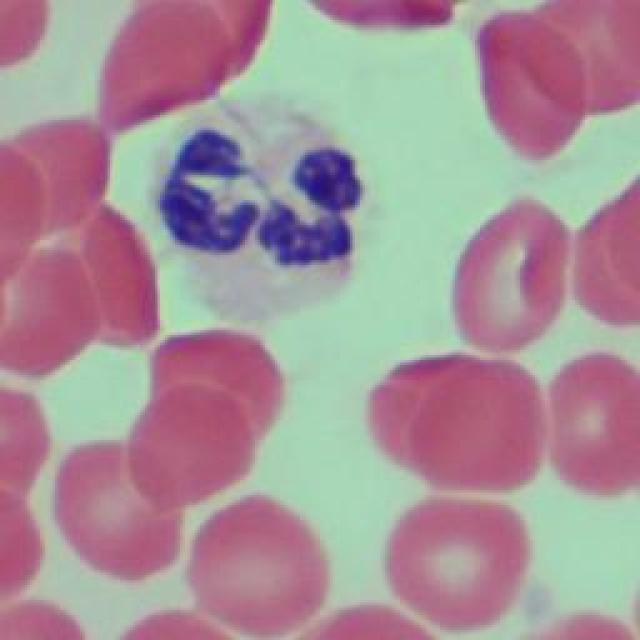RBC: (191, 494, 329, 636), (391, 498, 531, 632), (411, 363, 549, 495), (56, 440, 184, 582), (98, 4, 230, 136), (455, 202, 570, 350), (476, 17, 584, 165), (153, 330, 285, 448), (130, 384, 255, 506), (368, 356, 490, 472), (0, 117, 112, 242), (522, 0, 640, 115), (0, 255, 102, 382), (549, 354, 636, 498), (81, 204, 161, 348), (575, 176, 640, 329), (169, 0, 269, 78), (0, 140, 45, 290), (0, 388, 50, 500), (296, 602, 434, 640), (304, 0, 464, 32), (0, 490, 42, 597), (116, 607, 233, 640), (0, 600, 85, 640), (530, 612, 640, 640), (0, 8, 50, 68)
WBC: (145, 97, 360, 325)
